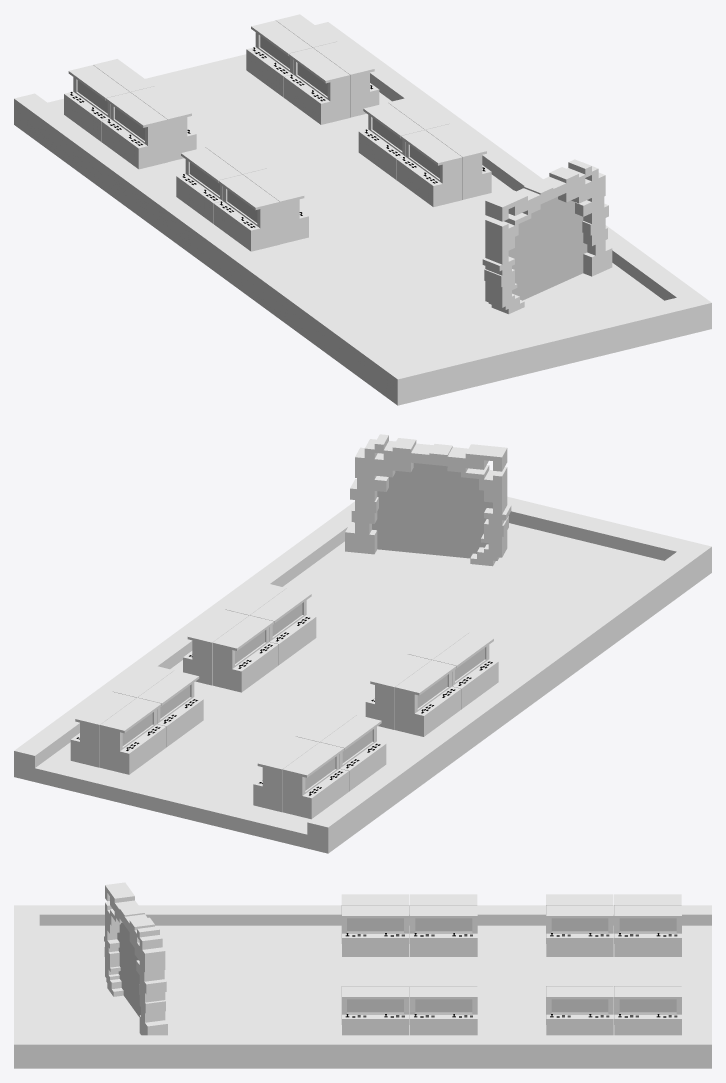
File: Arcade Zone.fbx
3 views of the same model, one above another, from view 1: azimuth 30°, elevation 25°; view 2: azimuth 150°, elevation 25°; view 3: azimuth 270°, elevation 25° (orthographic). The views are drawn at different scales.
Parts seen in each view (by area): view 1: Arcade Boss Floor, ArkV2.003, Veil.002, Arcade Borne 1.010, Arcade Borne 1.026, Arcade Borne 1.034, Arcade Borne 1.002, Arcade Borne 1.008, Arcade Borne 1, Arcade Borne 1.024, Arcade Borne 1.032, Arcade Borne 1.011 (+7 smaller); view 2: Arcade Boss Floor, ArkV2.003, Veil.002, Arcade Borne 1.008, Arcade Borne 1.024, Arcade Borne 1, Arcade Borne 1.032, Arcade Borne 1.010, Arcade Borne 1.002, Arcade Borne 1.034, Arcade Borne 1.026, Arcade Borne 1.025 (+7 smaller); view 3: Arcade Boss Floor, ArkV2.003, Arcade Borne 1.025, Arcade Borne 1.027, Arcade Borne 1.033, Arcade Borne 1.035, Arcade Borne 1.001, Arcade Borne 1.003, Arcade Borne 1.009, Arcade Borne 1.011, Veil.002, Arcade Borne 1.008 (+7 smaller).
Boxes of the visible parts, x1=… form: Arcade Boss Floor: x1=14, y1=22, x2=711, y2=405; ArkV2.003: x1=482, y1=159, x2=612, y2=314; Veil.002: x1=508, y1=197, x2=587, y2=300; Arcade Borne 1.010: x1=396, y1=130, x2=462, y2=207; Arcade Borne 1.026: x1=101, y1=92, x2=167, y2=169; Arcade Borne 1.034: x1=213, y1=174, x2=279, y2=251; Arcade Borne 1.002: x1=284, y1=48, x2=349, y2=124; Arcade Borne 1.008: x1=358, y1=102, x2=424, y2=179; Arcade Borne 1: x1=246, y1=20, x2=312, y2=97; Arcade Borne 1.024: x1=64, y1=65, x2=129, y2=141; Arcade Borne 1.032: x1=176, y1=147, x2=242, y2=223; Arcade Borne 1.011: x1=425, y1=124, x2=491, y2=199; Arcade Boss Floor: x1=14, y1=496, x2=711, y2=853; ArkV2.003: x1=345, y1=434, x2=511, y2=566; Veil.002: x1=372, y1=463, x2=492, y2=558; Arcade Borne 1.008: x1=212, y1=615, x2=278, y2=692; Arcade Borne 1.024: x1=282, y1=742, x2=348, y2=819; Arcade Borne 1: x1=100, y1=697, x2=166, y2=774; Arcade Borne 1.032: x1=395, y1=660, x2=461, y2=736; Arcade Borne 1.010: x1=250, y1=588, x2=316, y2=664; Arcade Borne 1.002: x1=138, y1=670, x2=203, y2=747; Arcade Borne 1.034: x1=433, y1=632, x2=498, y2=709; Arcade Borne 1.026: x1=320, y1=715, x2=386, y2=791; Arcade Borne 1.025: x1=253, y1=736, x2=318, y2=812; Arcade Boss Floor: x1=14, y1=905, x2=711, y2=1068; ArkV2.003: x1=104, y1=882, x2=167, y2=1035; Arcade Borne 1.025: x1=614, y1=905, x2=681, y2=956; Arcade Borne 1.027: x1=546, y1=905, x2=613, y2=956; Arcade Borne 1.033: x1=410, y1=905, x2=477, y2=956; Arcade Borne 1.035: x1=342, y1=905, x2=409, y2=956; Arcade Borne 1.001: x1=614, y1=986, x2=681, y2=1035; Arcade Borne 1.003: x1=546, y1=986, x2=613, y2=1035; Arcade Borne 1.009: x1=410, y1=986, x2=477, y2=1035; Arcade Borne 1.011: x1=342, y1=986, x2=409, y2=1035; Veil.002: x1=117, y1=922, x2=140, y2=1016; Arcade Borne 1.008: x1=409, y1=975, x2=477, y2=1024.
Bounding box in the file's own units: 3901 × 1482 × 8253.
